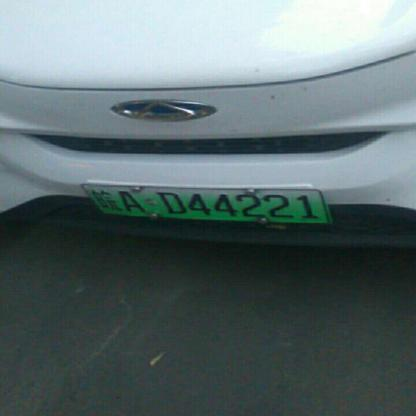lp: (82, 183, 334, 223)
